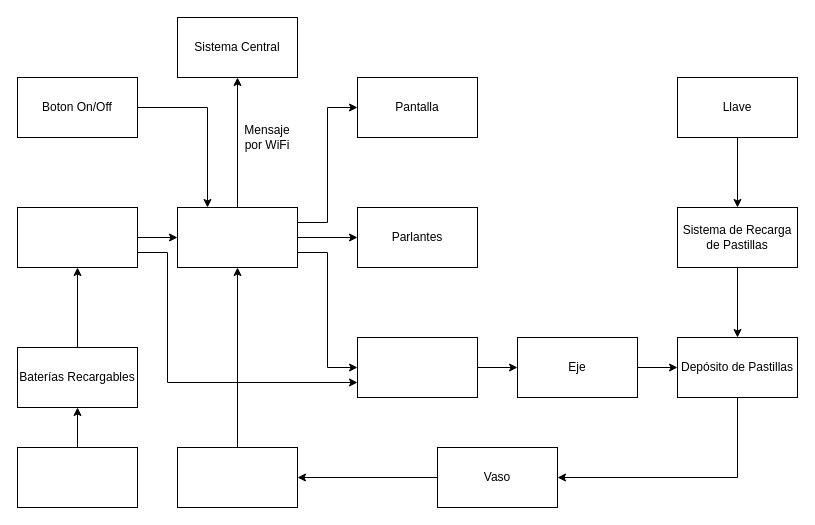
The diagram is 815 pixels wide and 525 high, and some of its shapes have lost their labels. The centre of each missing label's shape, as x and y in pixels:
Motor Paso a Paso: (417,367)
Módulo Step Up: (77,237)
Paneles Solares: (77,477)
Placa: (237,237)
Sensor de Distancia: (237,477)
